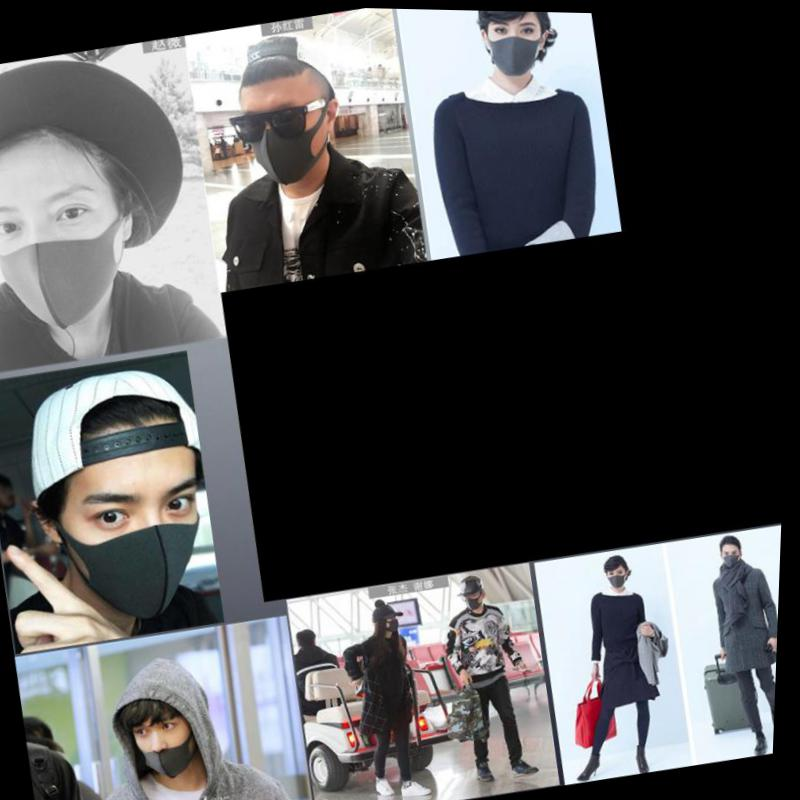OK: (77, 466, 241, 628), (1, 170, 152, 341), (230, 83, 339, 190), (482, 9, 553, 77), (610, 562, 635, 589), (726, 541, 750, 569), (387, 613, 409, 636), (468, 589, 491, 609)
WRONG: (133, 701, 215, 782)
